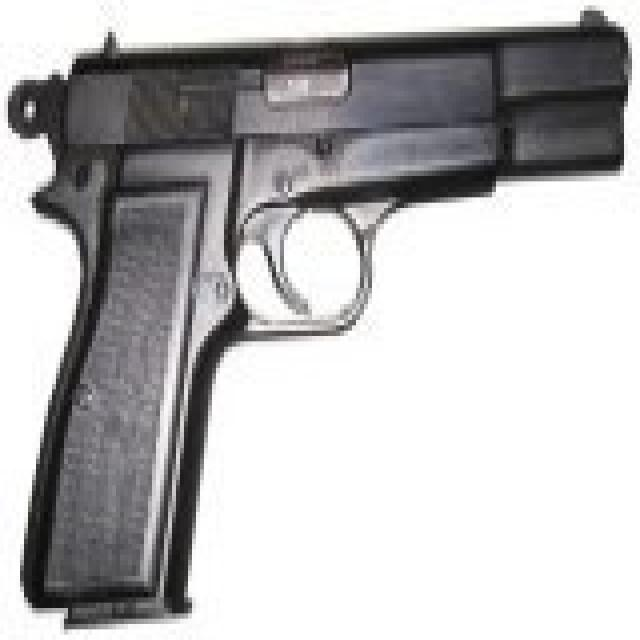Gun: (11, 7, 640, 630)
